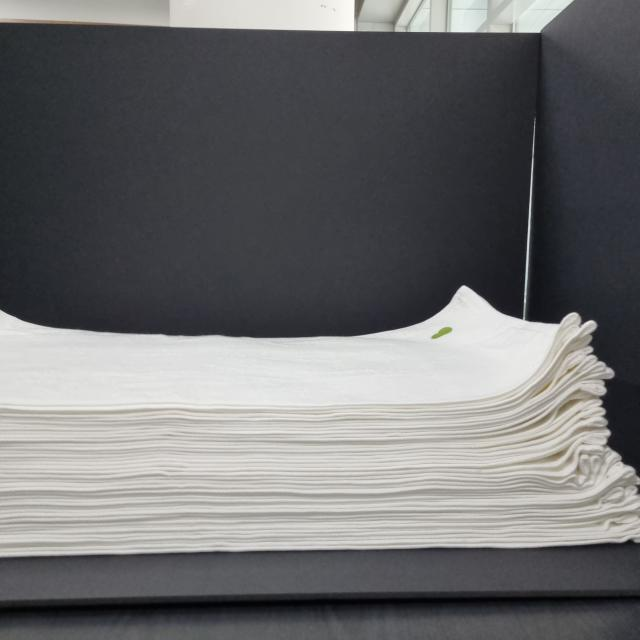not_50count_towel: (0, 276, 640, 581)
